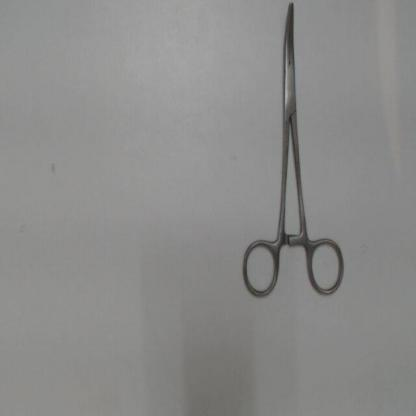Crile Artery Forceps: (236, 1, 350, 301)
